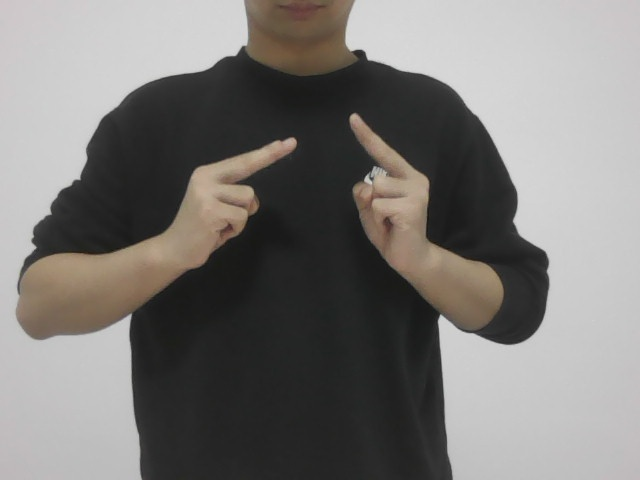know: (154, 116, 446, 300)
